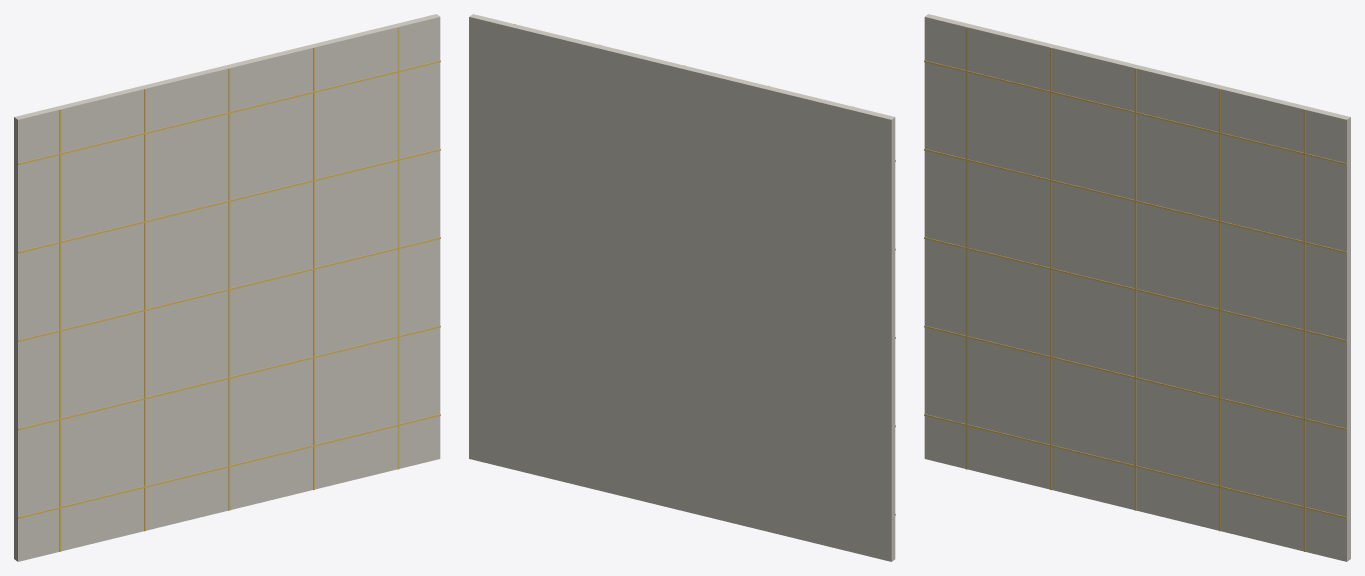
Rendered from hall_floor_tile.glb.
The picture shows the model from 3 angles, left to right: view 1: azimuth 30°, elevation 25°; view 2: azimuth 150°, elevation 25°; view 3: azimuth 330°, elevation 25°; orthographic projection.
Parts seen in each view (by area): view 1: floor, inlay (×10); view 2: floor; view 3: floor, inlay (×10).
Part boxes in pixels (left/top/right/bottom): floor: left=14, top=14, right=440, bottom=561; inlay (×10): left=18, top=27, right=440, bottom=551; floor: left=469, top=14, right=895, bottom=561; floor: left=924, top=14, right=1350, bottom=561; inlay (×10): left=924, top=27, right=1346, bottom=551.
Bounding box in the file's own units: 5 × 5 × 0.087.
